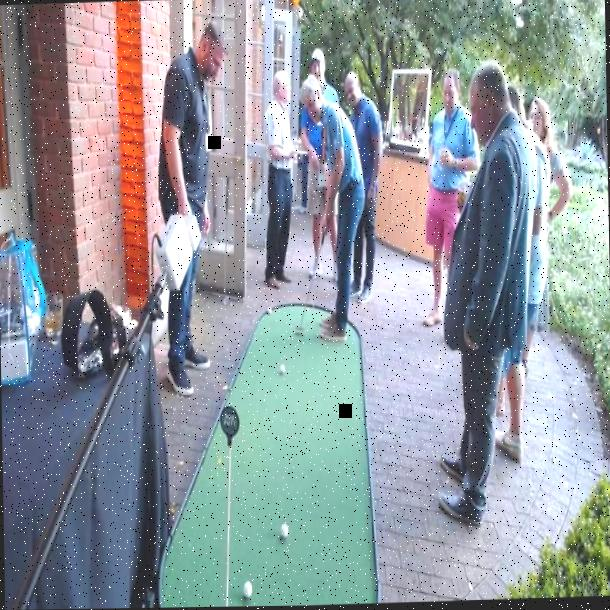GolfBall: (236, 570, 256, 604), (272, 518, 294, 544), (274, 360, 289, 380), (261, 304, 276, 315)
